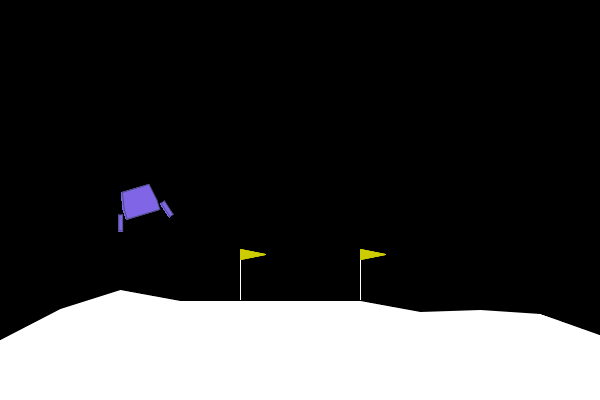lander: (106, 178, 175, 234)
